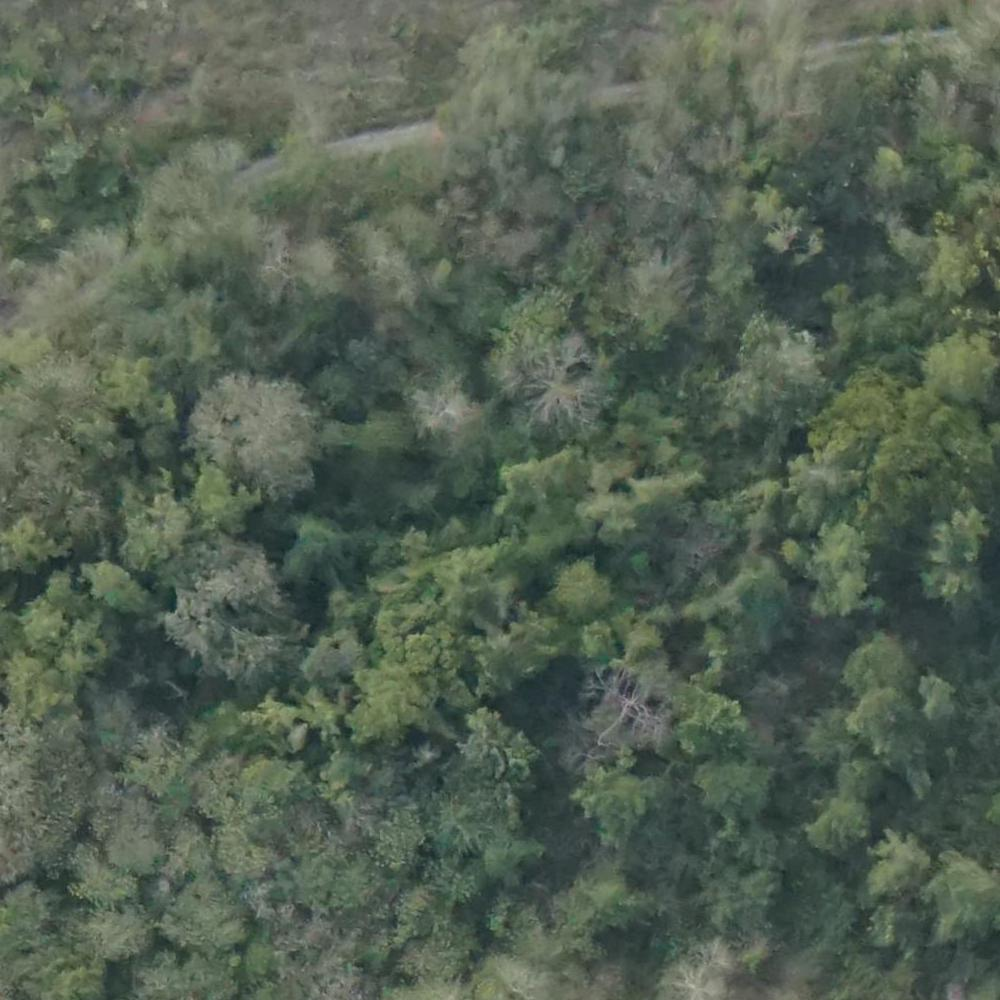tree: (201, 377, 314, 504), (738, 323, 822, 409), (524, 344, 610, 421), (340, 667, 418, 743), (101, 801, 171, 881), (841, 624, 911, 703), (583, 770, 658, 841), (926, 325, 994, 400), (4, 651, 72, 725), (932, 858, 997, 934), (546, 557, 620, 623), (413, 376, 479, 448), (493, 276, 562, 336), (864, 834, 927, 897), (854, 683, 916, 746), (387, 197, 448, 256), (809, 793, 872, 850), (82, 899, 146, 955), (861, 149, 923, 205), (471, 710, 530, 766), (940, 504, 998, 560), (425, 800, 488, 849), (214, 818, 262, 877), (764, 205, 818, 257), (704, 246, 755, 301), (372, 816, 429, 863), (90, 554, 138, 606), (26, 599, 73, 650), (489, 833, 546, 874), (3, 520, 45, 569), (106, 359, 147, 399)
